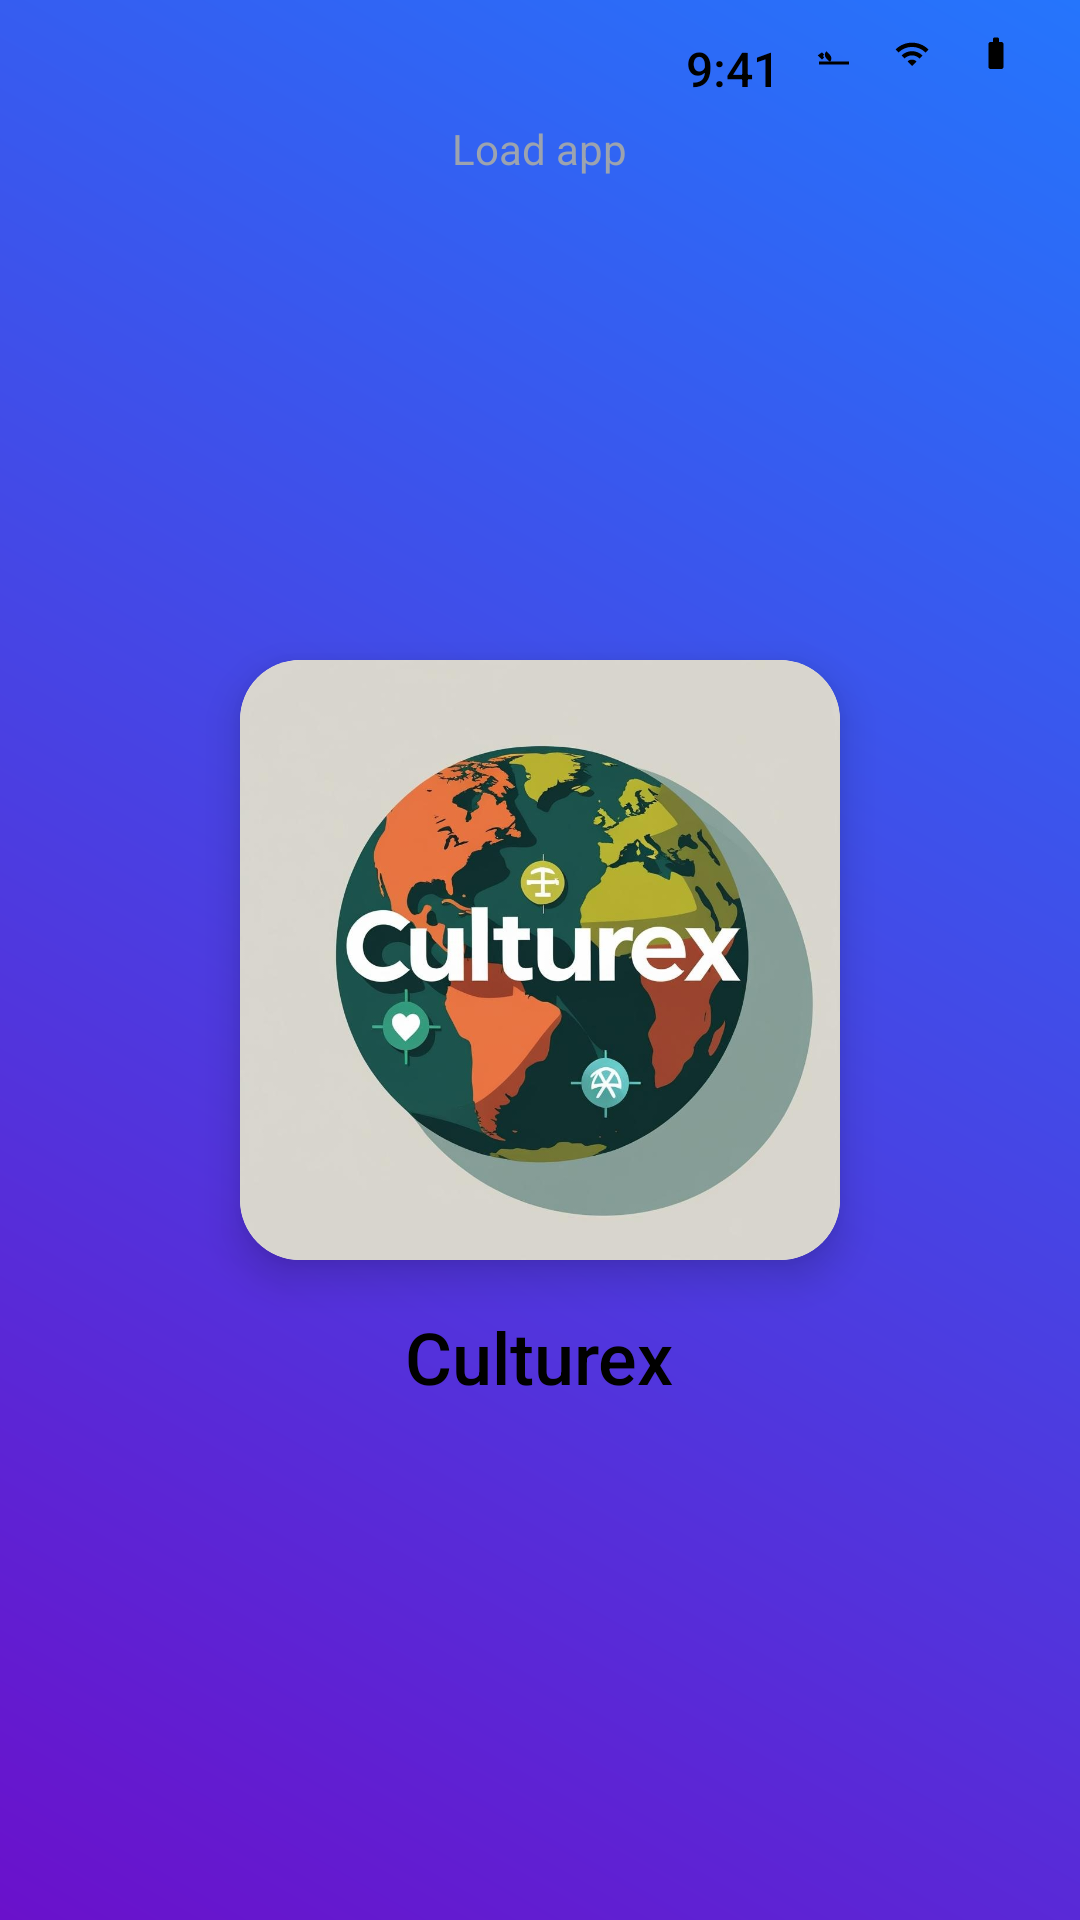

Icon click points for this 1080x1920 phone screenshot, format [x,y]:
battery: [996,53]
wifi: [912,54]
